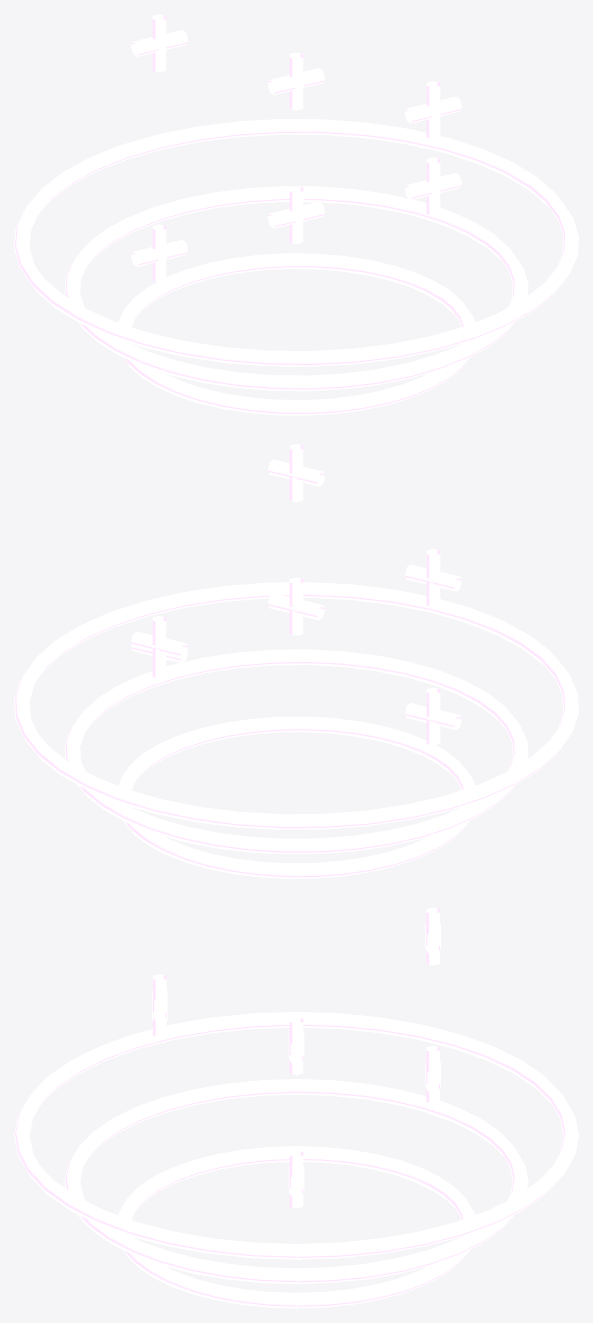
Rendered from item.health.glb.
3 renders of one model, top to bottom at view 1: azimuth 30°, elevation 25°; view 2: azimuth 150°, elevation 25°; view 3: azimuth 270°, elevation 25°, orthographic.
Parts seen in each view (by area): view 1: item.health.sweep.015; view 2: item.health.sweep.015; view 3: item.health.sweep.015.
Part boxes in pixels (bbox=[...]): item.health.sweep.015: bbox=[14, 14, 578, 415]; item.health.sweep.015: bbox=[14, 444, 578, 878]; item.health.sweep.015: bbox=[14, 907, 578, 1308].
Bounding box in the file's own units: 1.79 × 1.01 × 1.79.
